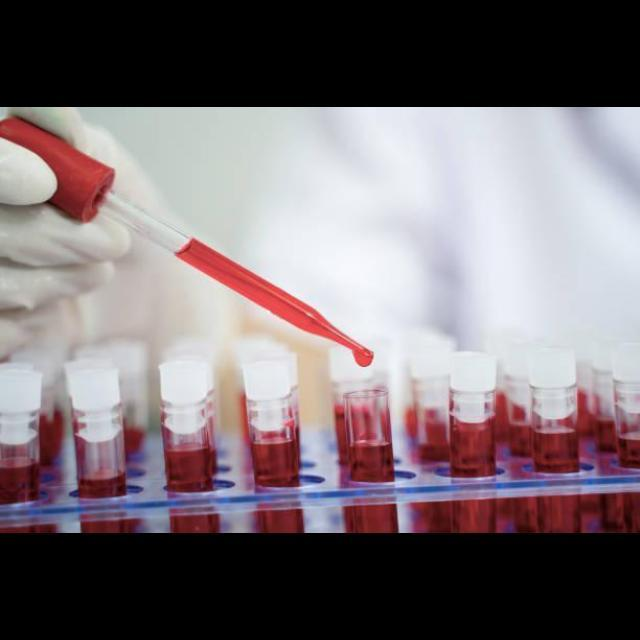blood: (176, 238, 374, 367), (451, 417, 497, 479), (165, 446, 213, 493), (252, 442, 300, 488), (534, 431, 581, 474), (0, 457, 39, 505), (349, 442, 393, 483), (344, 505, 399, 534), (539, 497, 581, 534), (497, 498, 539, 534), (603, 494, 640, 534), (454, 500, 497, 534), (77, 470, 125, 500), (39, 410, 63, 466), (412, 503, 453, 534), (256, 511, 304, 534), (170, 515, 220, 534), (81, 520, 140, 534), (619, 433, 640, 469), (595, 419, 616, 453), (579, 390, 594, 437), (353, 349, 374, 368)
